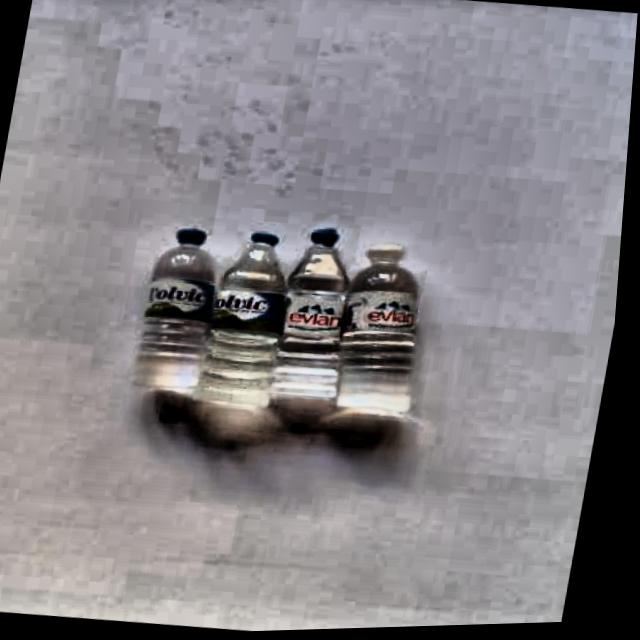Bottles: (177, 200, 314, 437), (330, 232, 462, 445), (125, 209, 232, 412)
